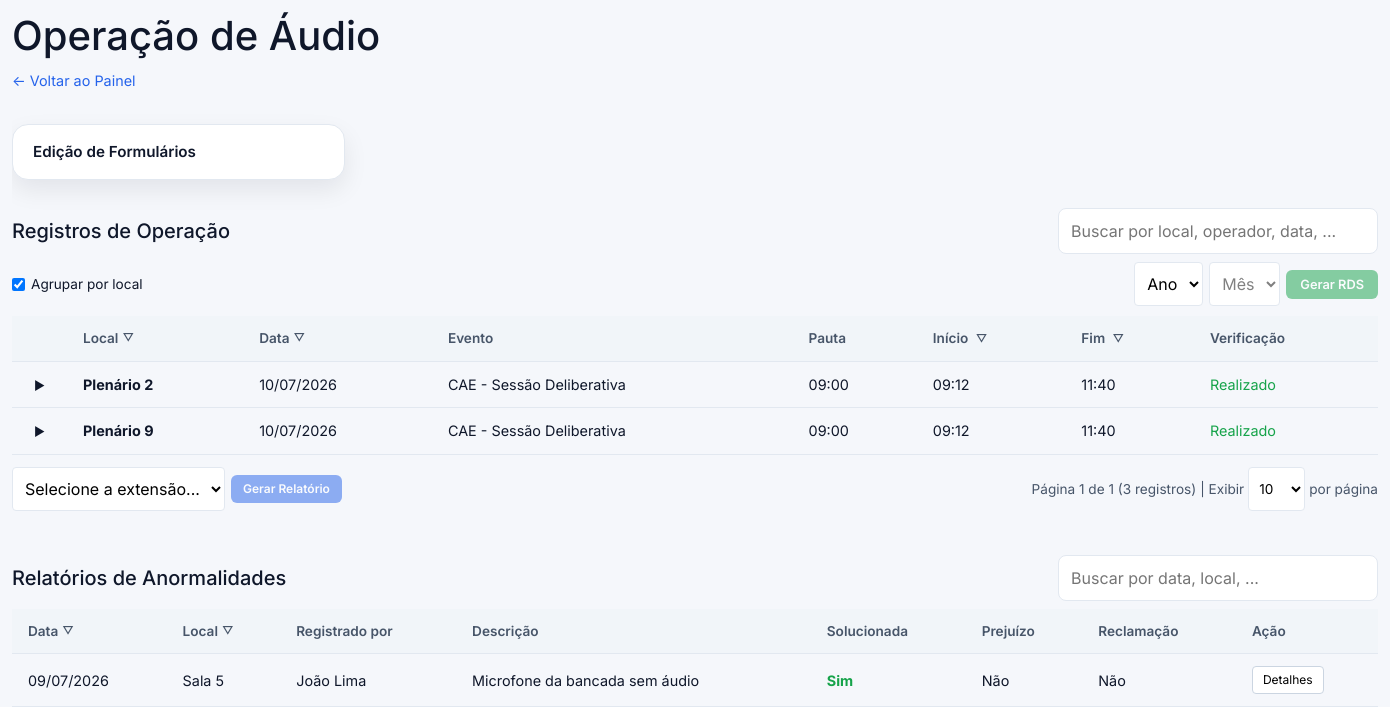
Test case: AdminOperacaoAudioComponent — canal de erro das 3 listagens › acordeões › entradas da sessão (modo agrupado) › o erro de uma sessão NÃO contamina a outra (nem as tabelas vizinhas)
Click the row with class "row-clickable" that starts with "Plenário 2": x=695, y=385 [12, 361, 1378, 408]
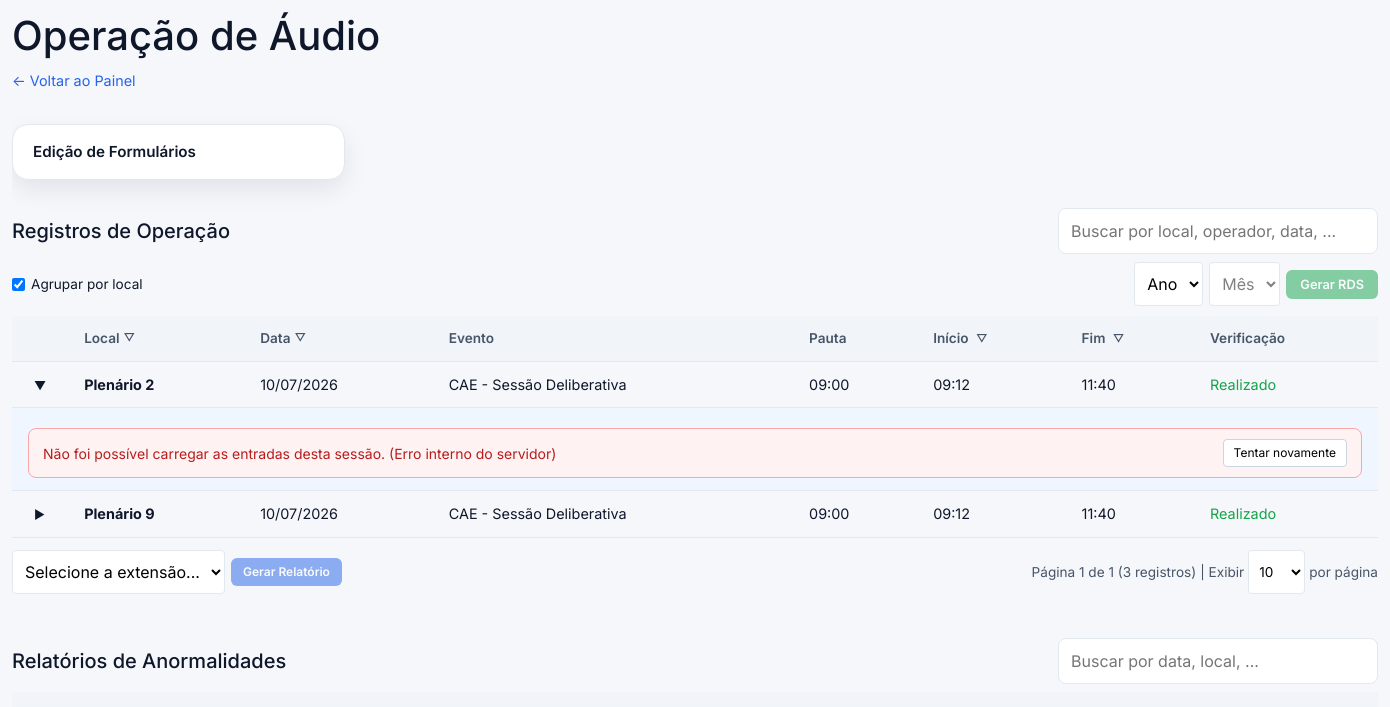
Click the row with class "row-clickable" that starts with "Plenário 9": x=695, y=514 [12, 491, 1378, 538]
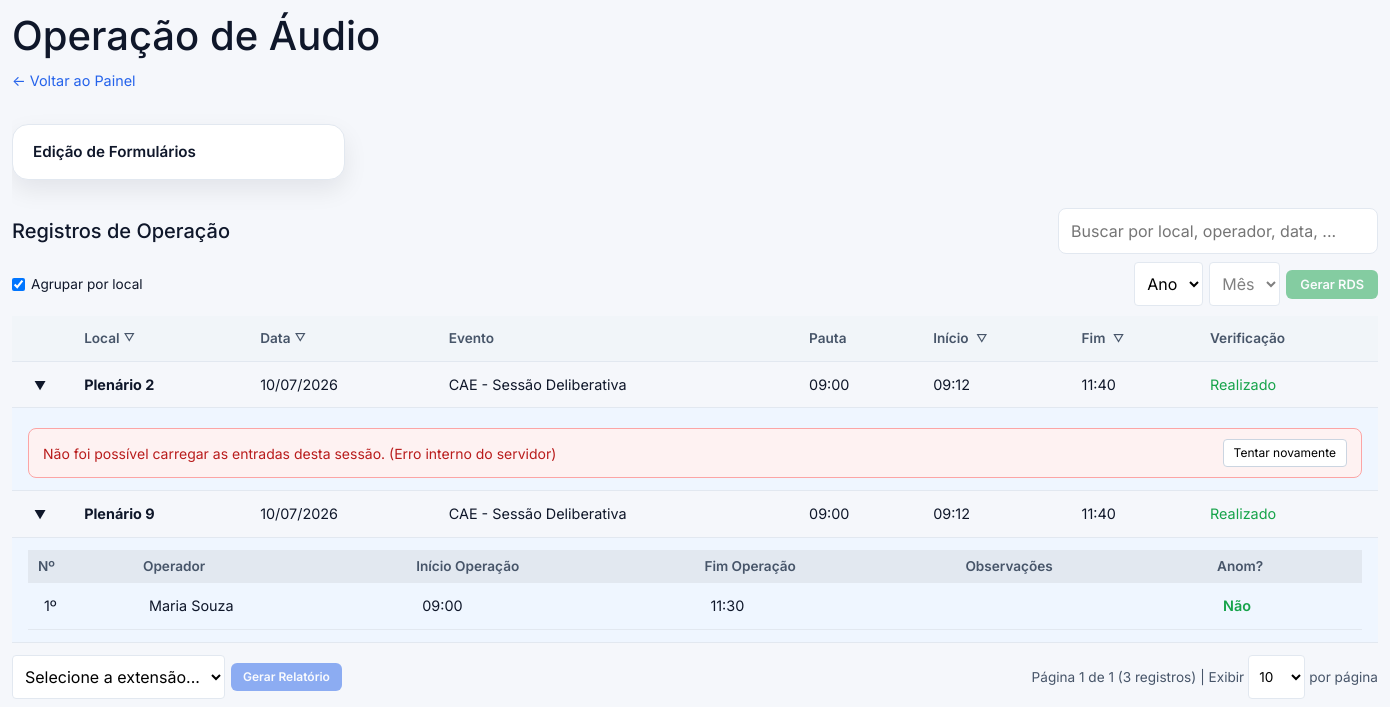
Result: the number of "ErroCargaComponent" components is 1 at [28, 428, 1362, 478]
Result: the table shows "Maria Souza" at [149, 597, 234, 614]
